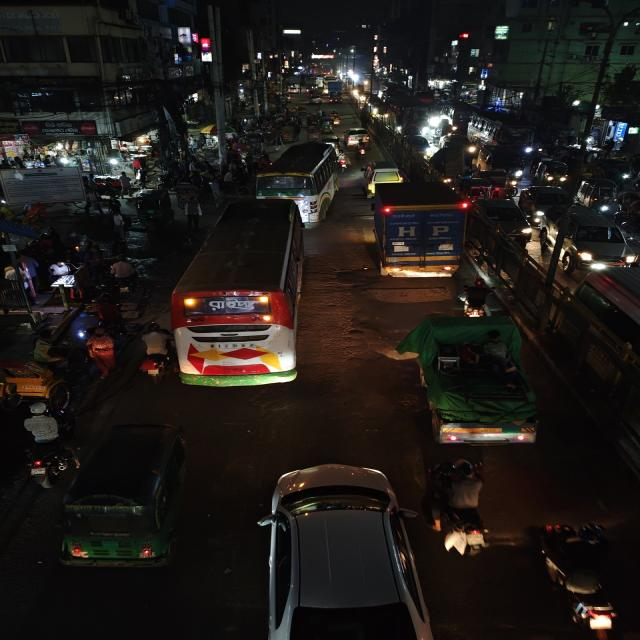bus: (175, 196, 307, 388), (259, 144, 342, 228), (467, 110, 536, 156)
car: (260, 462, 429, 640), (538, 205, 638, 273), (471, 198, 538, 246), (477, 144, 525, 180), (363, 161, 405, 183), (438, 133, 476, 157), (403, 133, 431, 157), (345, 126, 371, 148)
cng: (66, 422, 195, 574), (574, 177, 623, 217), (537, 158, 569, 188), (317, 116, 335, 133)
motorcycle: (535, 517, 631, 640), (426, 456, 496, 562), (22, 404, 76, 488), (134, 320, 169, 385), (103, 252, 142, 298), (338, 149, 348, 171), (356, 138, 366, 158)
pedestrian: (84, 328, 119, 382), (184, 193, 204, 233)
pickup_van: (401, 311, 547, 447)
rickshaw: (4, 330, 78, 413)
truck: (370, 180, 467, 283)
